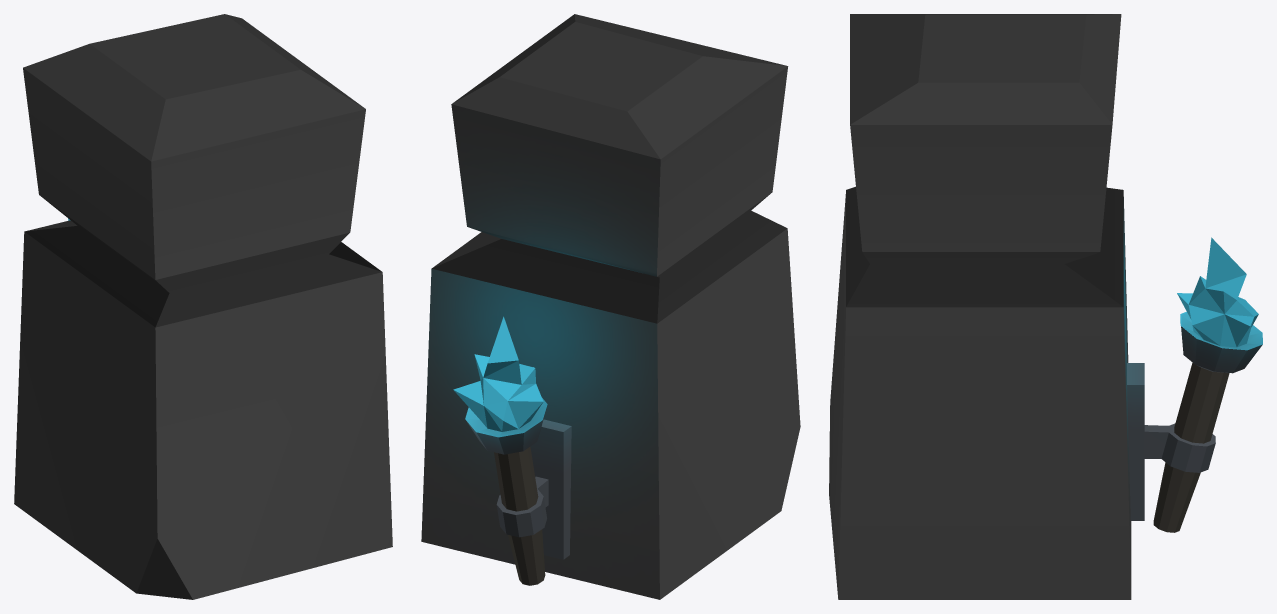
The model's file is BigLitBlueTorchWallSegment.fbx.
3 renders of one model, left to right at view 1: azimuth 30°, elevation 25°; view 2: azimuth 150°, elevation 25°; view 3: azimuth 270°, elevation 25°, orthographic. The views are drawn at different scales.
Visible parts, largest first — view 1: BigBlueTorchWallSegment; view 2: BigBlueTorchWallSegment; view 3: BigBlueTorchWallSegment.
Boxes of the visible parts, <box> form: BigBlueTorchWallSegment: <box>14,14,392,599</box>; BigBlueTorchWallSegment: <box>421,14,800,599</box>; BigBlueTorchWallSegment: <box>829,14,1262,599</box>.
Bounding box in the file's own units: 4.6 × 8.73 × 6.81.
